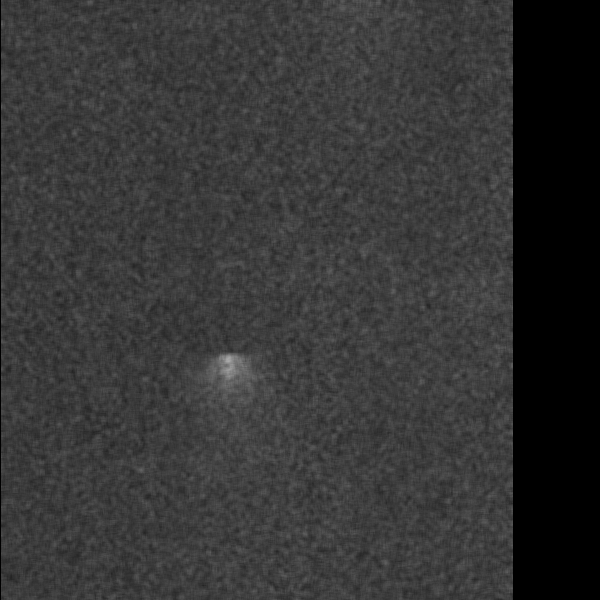spark: (41, 337, 75, 381), (227, 318, 249, 361)
